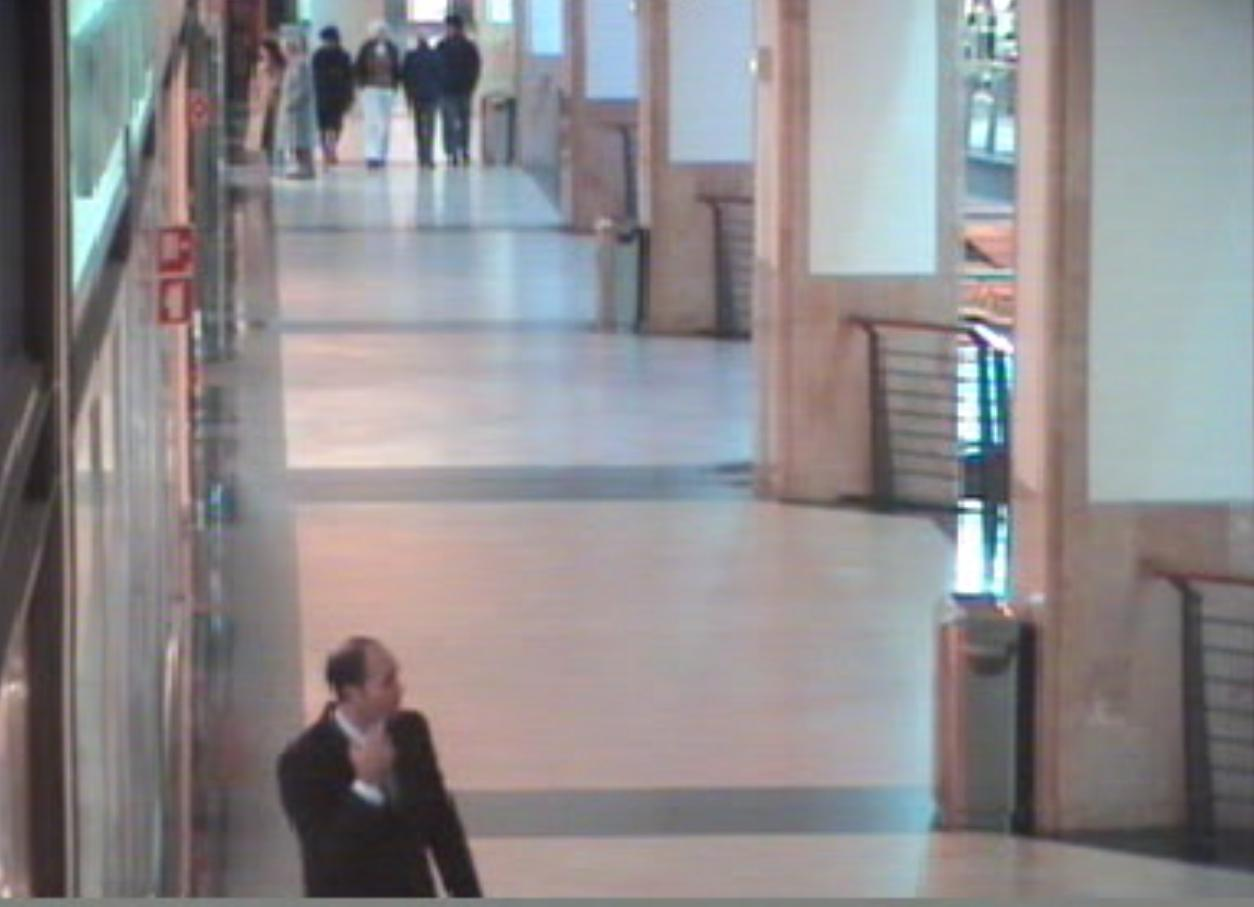person: (273, 628, 486, 899), (430, 10, 487, 170), (352, 16, 409, 169), (267, 28, 320, 185), (311, 20, 357, 172)
